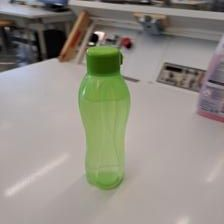bottle: (77, 44, 132, 189)
